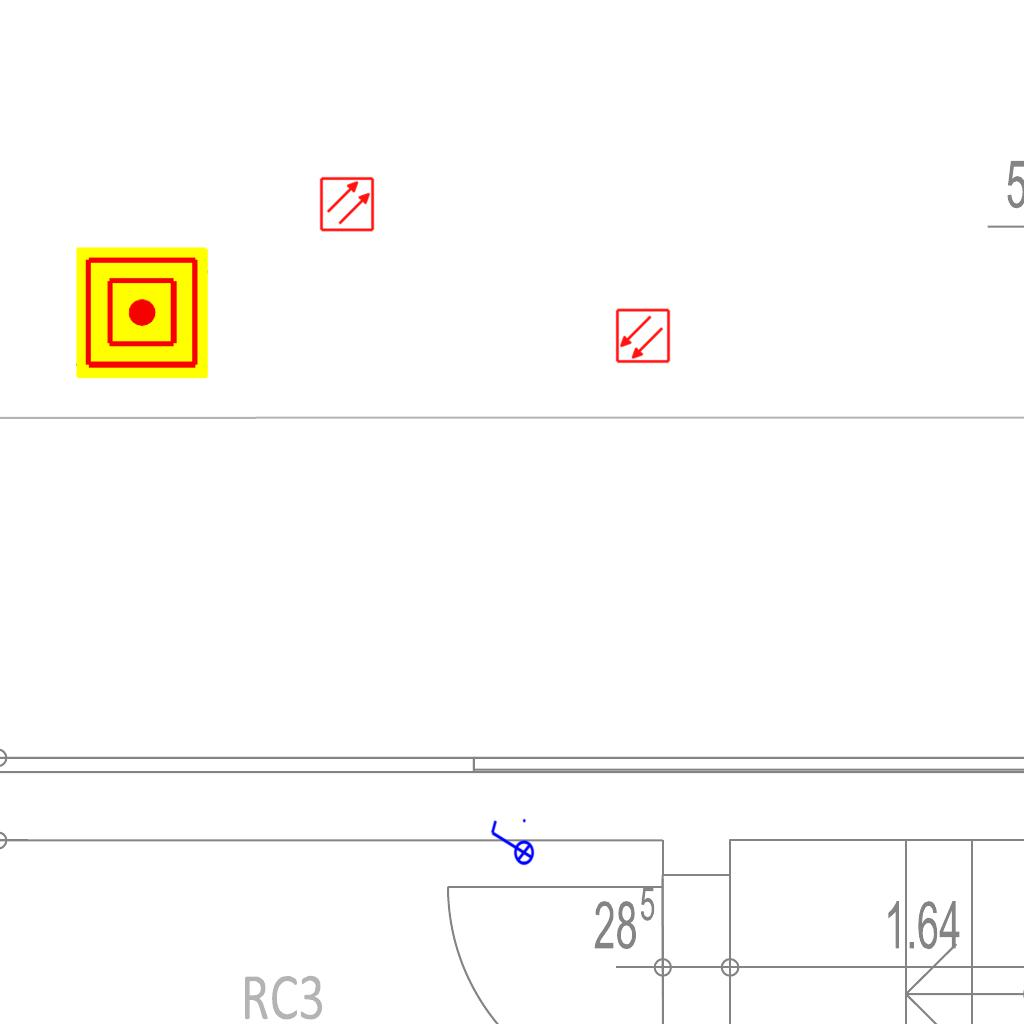Ausschalter_beleuchtet: (487, 816, 535, 872)
NAM-Nichtautomatischer_Melder: (76, 247, 208, 379)
RMO_Rauchmelder_optischer: (615, 308, 671, 364), (319, 176, 375, 232)
